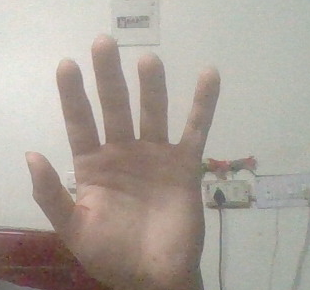move: (23, 34, 228, 284)
